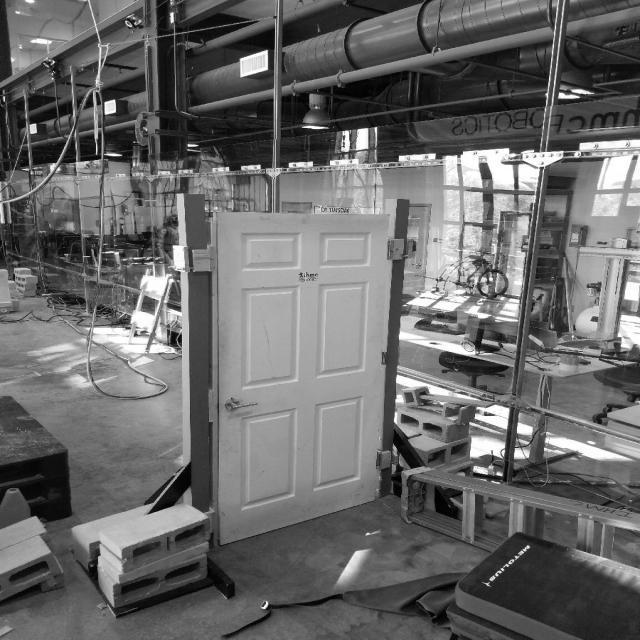door: (209, 210, 393, 544), (223, 392, 260, 413)
